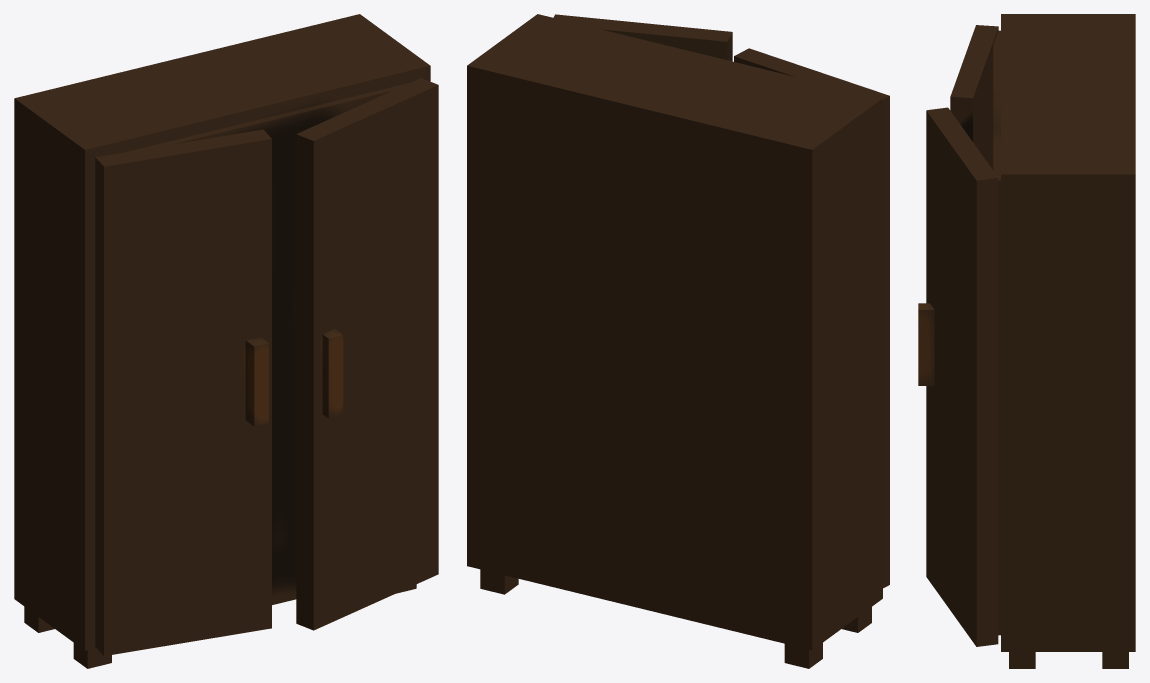
The model's file is wardrobe.fbx.
The picture shows the model from 3 angles, left to right: view 1: azimuth 30°, elevation 25°; view 2: azimuth 150°, elevation 25°; view 3: azimuth 270°, elevation 25°; orthographic projection. The views are drawn at different scales.
Visible parts, largest first — view 1: wardrobe; view 2: wardrobe; view 3: wardrobe.
Boxes of the visible parts, <box> form: wardrobe: <box>14,14,438,668</box>; wardrobe: <box>467,14,889,668</box>; wardrobe: <box>918,14,1135,668</box>.
Size of the model in its own units: 145 by 210 by 83.09.
